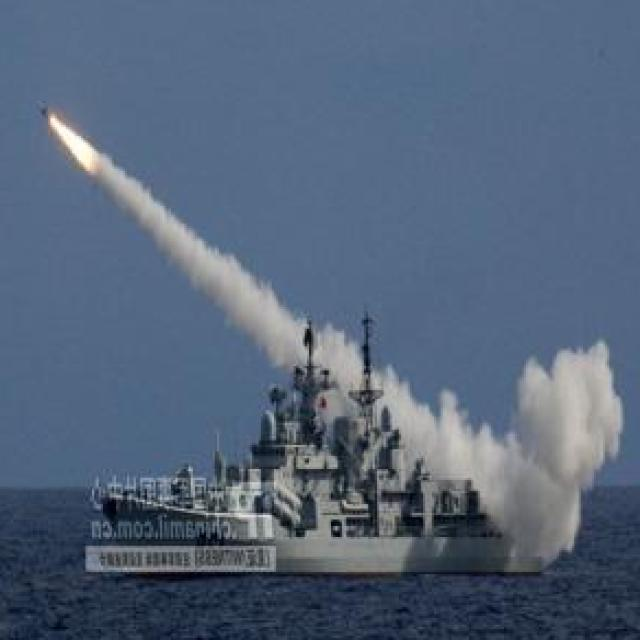navalvessels: (92, 318, 534, 578)
